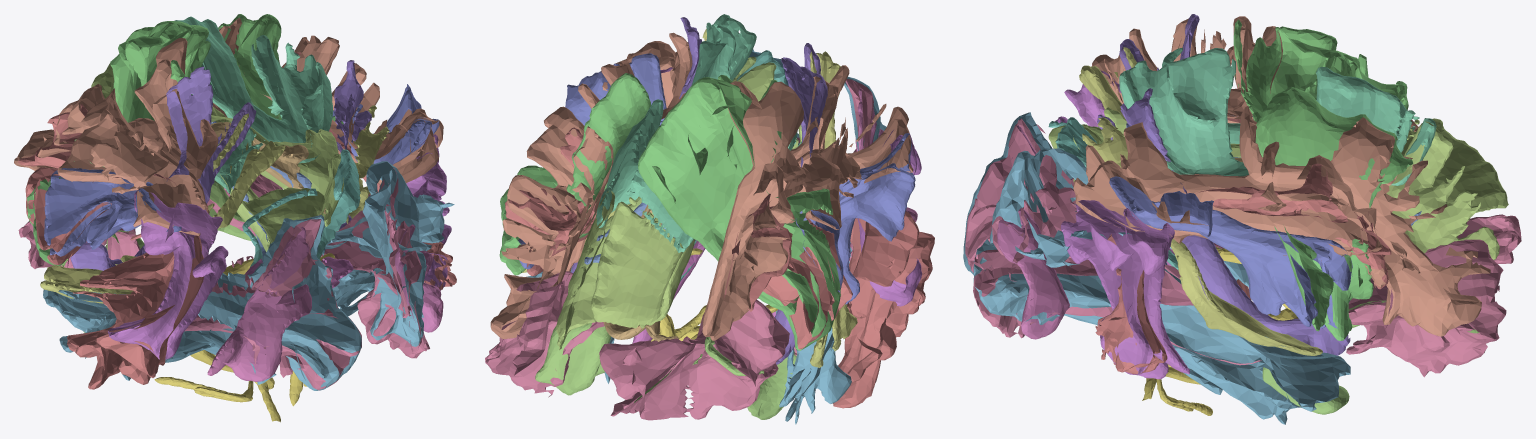
The model's file is tracts_hcp1065_assoc.glb.
The picture shows the model from 3 angles, left to right: view 1: azimuth 30°, elevation 25°; view 2: azimuth 150°, elevation 25°; view 3: azimuth 270°, elevation 25°; orthographic projection. The views are drawn at different scales.
Visible parts, largest first — view 1: Superior longitudinal fasciculus II L, Arcuate fasciculus L, Inferior longitudinal fasciculus L, Inferior longitudinal fasciculus R, Superior longitudinal fasciculus I R, Parietal aslant tract L, Vertical occipital fasciculus L, Inferior fronto-occipital fasciculus R, Inferior fronto-occipital fasciculus L, Superior longitudinal fasciculus III L, Frontal aslant tract L, Extreme capsule fibres L (+20 smaller); view 2: Superior longitudinal fasciculus II L, Frontal aslant tract L, Arcuate fasciculus L, Inferior fronto-occipital fasciculus L, Superior longitudinal fasciculus II R, Cingulum, frontal-parietal L, Superior longitudinal fasciculus III L, Superior longitudinal fasciculus I R, Frontal aslant tract R, Inferior fronto-occipital fasciculus R, Cingulum, frontal-parietal R, Inferior longitudinal fasciculus L (+13 smaller); view 3: Superior longitudinal fasciculus II R, Inferior longitudinal fasciculus R, Inferior fronto-occipital fasciculus R, Superior longitudinal fasciculus I R, Superior longitudinal fasciculus III R, Frontal aslant tract R, Parietal aslant tract R, Frontal aslant tract L, Arcuate fasciculus R, Cingulum, frontal-parietal R, Extreme capsule fibres R, Middle longitudinal fasciculus R (+10 smaller).
Boxes of the visible parts, x1=… form: Superior longitudinal fasciculus II L: x1=14, y1=38, x2=218, y2=236; Arcuate fasciculus L: x1=18, y1=104, x2=203, y2=389; Inferior longitudinal fasciculus L: x1=43, y1=215, x2=361, y2=390; Inferior longitudinal fasciculus R: x1=322, y1=161, x2=454, y2=346; Superior longitudinal fasciculus I R: x1=174, y1=16, x2=333, y2=163; Parietal aslant tract L: x1=108, y1=190, x2=228, y2=359; Vertical occipital fasciculus L: x1=207, y1=227, x2=311, y2=381; Inferior fronto-occipital fasciculus R: x1=207, y1=168, x2=429, y2=358; Inferior fronto-occipital fasciculus L: x1=18, y1=219, x2=361, y2=390; Superior longitudinal fasciculus III L: x1=44, y1=168, x2=181, y2=256; Frontal aslant tract L: x1=27, y1=21, x2=210, y2=265; Extreme capsule fibres L: x1=70, y1=66, x2=256, y2=270; Superior longitudinal fasciculus II L: x1=702, y1=65, x2=913, y2=340; Frontal aslant tract L: x1=638, y1=75, x2=840, y2=350; Arcuate fasciculus L: x1=724, y1=186, x2=934, y2=408; Inferior fronto-occipital fasciculus L: x1=599, y1=79, x2=873, y2=420; Superior longitudinal fasciculus II R: x1=490, y1=32, x2=692, y2=338; Cingulum, frontal-parietal L: x1=590, y1=125, x2=801, y2=328; Superior longitudinal fasciculus III L: x1=795, y1=133, x2=915, y2=304; Superior longitudinal fasciculus I R: x1=596, y1=14, x2=756, y2=227; Frontal aslant tract R: x1=499, y1=73, x2=650, y2=275; Inferior fronto-occipital fasciculus R: x1=485, y1=137, x2=800, y2=397; Cingulum, frontal-parietal R: x1=556, y1=56, x2=776, y2=349; Inferior longitudinal fasciculus L: x1=779, y1=76, x2=886, y2=424; Superior longitudinal fasciculus II R: x1=1073, y1=105, x2=1490, y2=336; Inferior longitudinal fasciculus R: x1=973, y1=148, x2=1350, y2=424; Inferior fronto-occipital fasciculus R: x1=973, y1=155, x2=1506, y2=377; Superior longitudinal fasciculus I R: x1=1119, y1=47, x2=1436, y2=185; Superior longitudinal fasciculus III R: x1=1109, y1=123, x2=1352, y2=328; Frontal aslant tract R: x1=1255, y1=86, x2=1413, y2=340; Parietal aslant tract R: x1=1061, y1=200, x2=1190, y2=379; Frontal aslant tract L: x1=1233, y1=19, x2=1408, y2=122; Arcuate fasciculus R: x1=1095, y1=163, x2=1391, y2=374; Cingulum, frontal-parietal R: x1=1073, y1=107, x2=1499, y2=259; Extreme capsule fibres R: x1=1097, y1=88, x2=1350, y2=355; Middle longitudinal fasciculus R: x1=1082, y1=117, x2=1322, y2=355.
Bounding box in the file's own units: 6.65 × 6.48 × 8.89.
